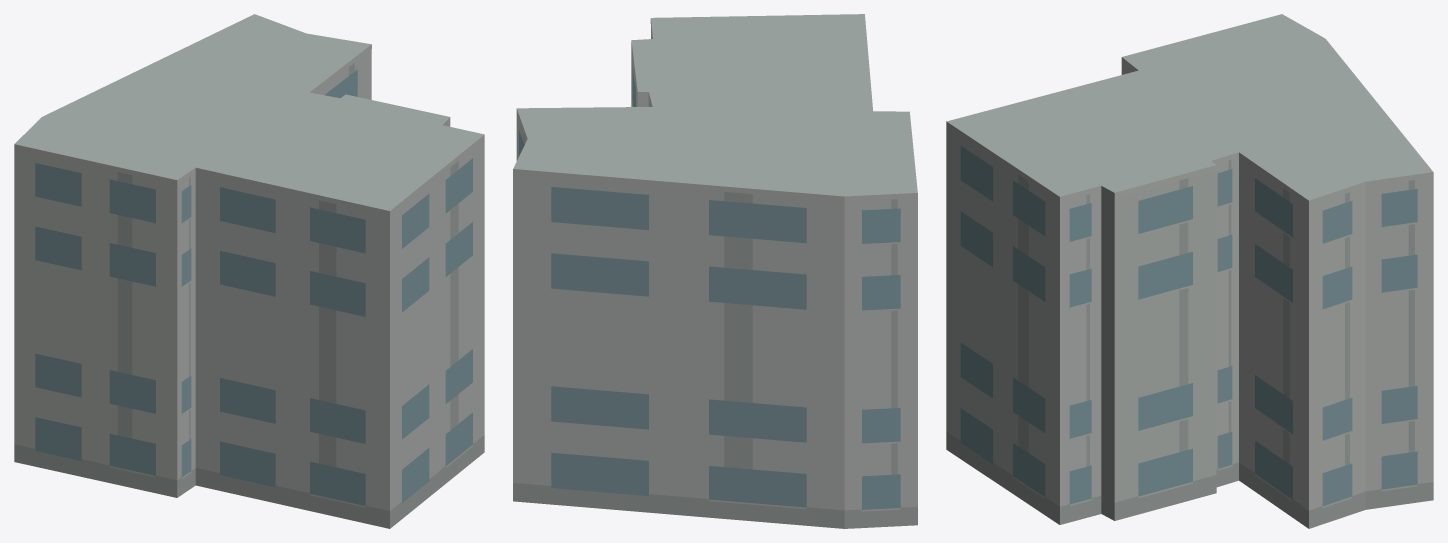
Rendered from survey-upis-32758900.glb.
3 views of the same model, side by side, from view 1: azimuth 30°, elevation 25°; view 2: azimuth 150°, elevation 25°; view 3: azimuth 270°, elevation 25° (orthographic). The views are drawn at different scales.
Visible parts, largest first — view 1: survey-upis-32758900.tmp; view 2: survey-upis-32758900.tmp; view 3: survey-upis-32758900.tmp.
Boxes of the visible parts, x1=… form: survey-upis-32758900.tmp: x1=14, y1=14, x2=484, y2=528; survey-upis-32758900.tmp: x1=513, y1=14, x2=917, y2=528; survey-upis-32758900.tmp: x1=946, y1=14, x2=1433, y2=528.
Bounding box in the file's own units: 18.61 × 15.25 × 20.52.
